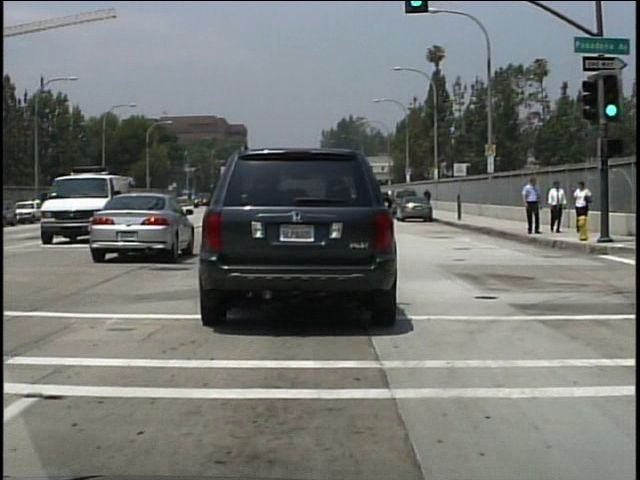person: (521, 176, 542, 237), (546, 180, 567, 234), (570, 180, 592, 216), (422, 187, 433, 211)
